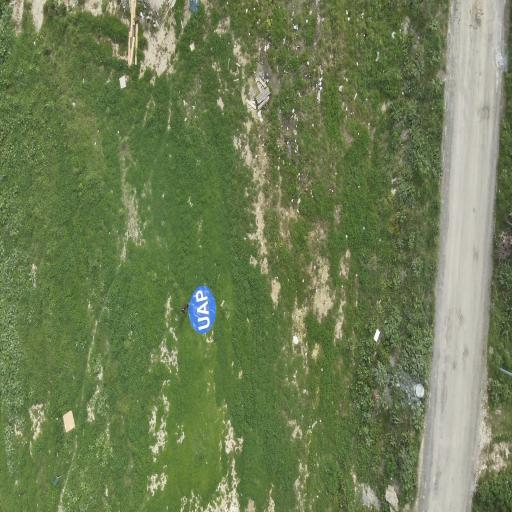UAP: (189, 286, 215, 333)
person: (181, 302, 189, 314)
